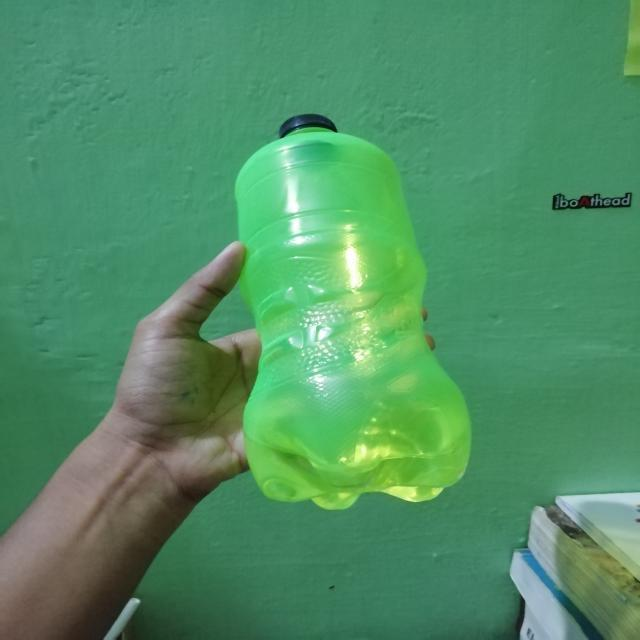plastic_bottle: (234, 113, 472, 510)
